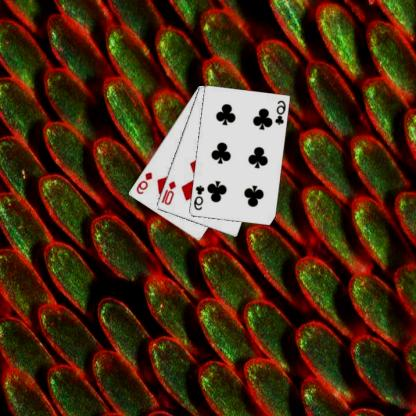10D: (160, 178, 178, 206)
6C: (193, 183, 207, 212), (274, 98, 288, 126)
6D: (135, 170, 156, 195)
